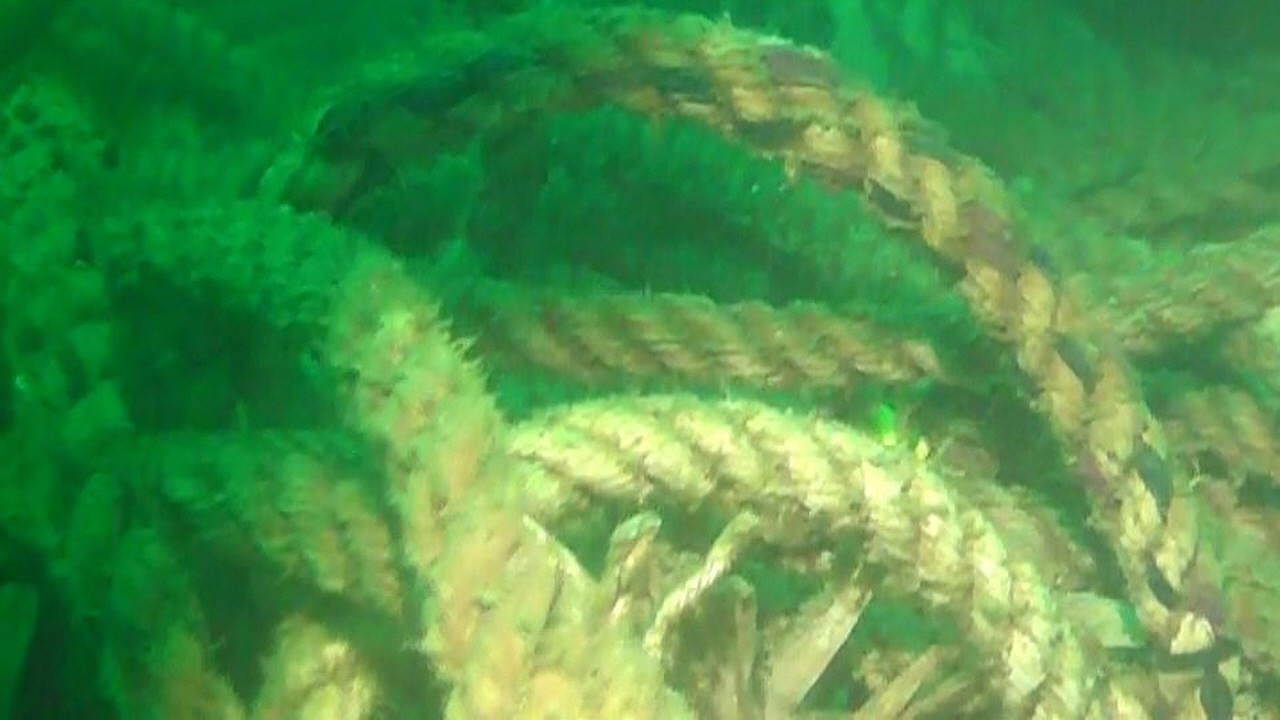bundle of ropes: (0, 0, 1280, 720)
